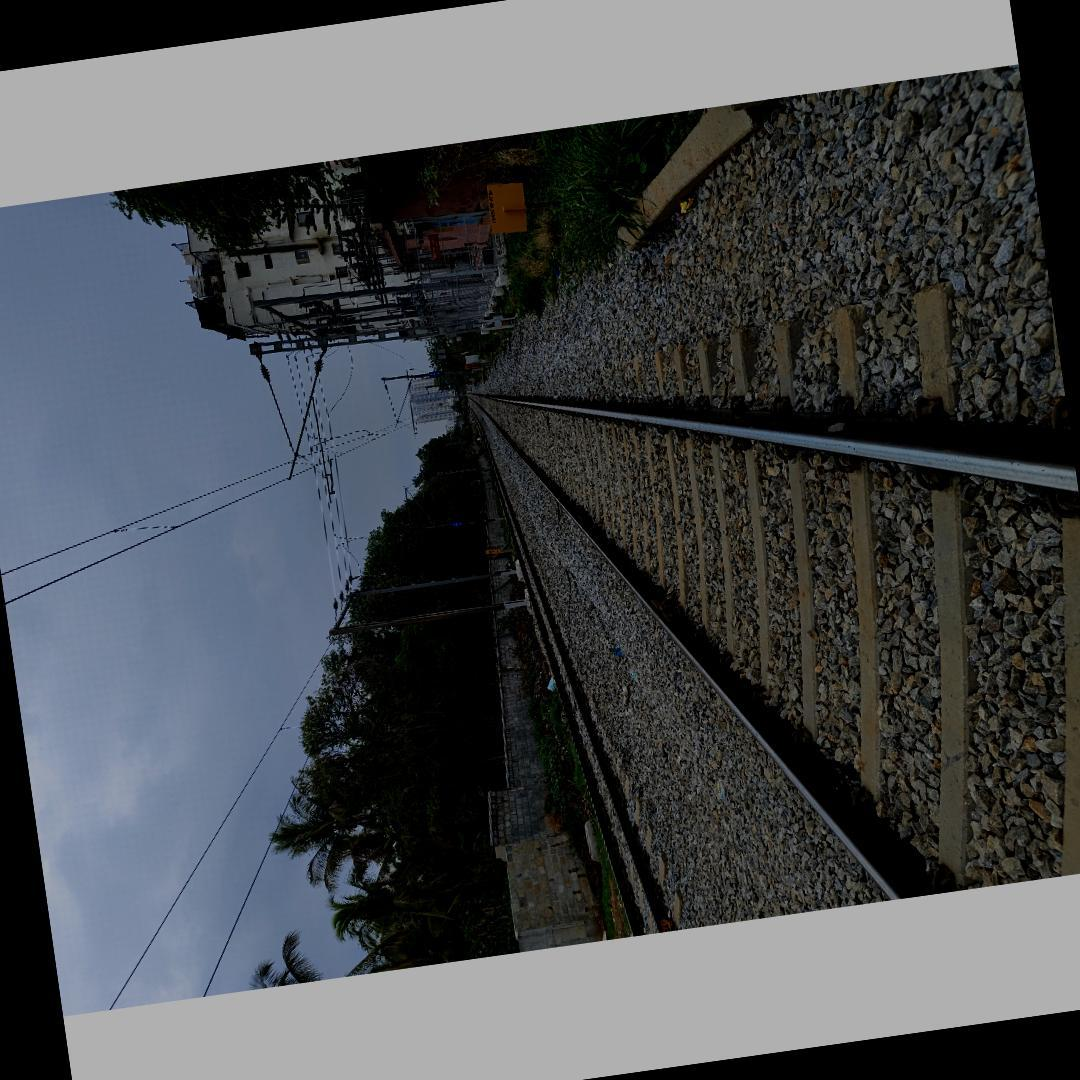track: (465, 392, 1080, 902)
